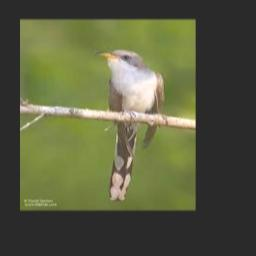Cuckoo: (93, 50, 163, 201)
